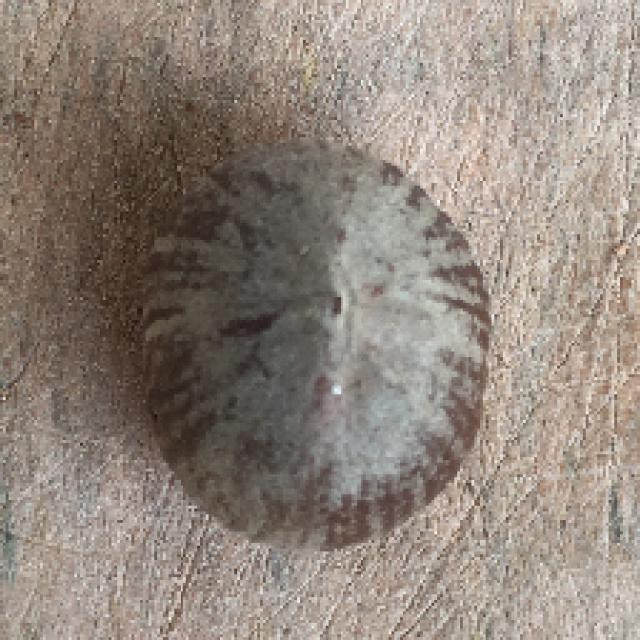damagedHazelnut: (150, 144, 493, 549)
